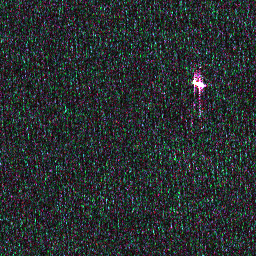ship: (189, 76, 207, 90)
